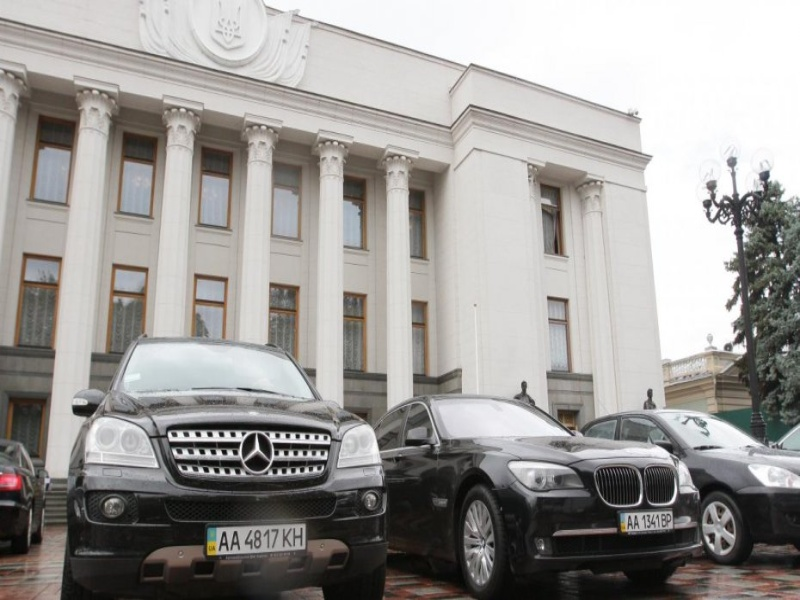car: (61, 335, 390, 600), (375, 394, 704, 600), (581, 408, 800, 566), (1, 438, 50, 553)
plate: (207, 523, 305, 553), (619, 510, 671, 530)
